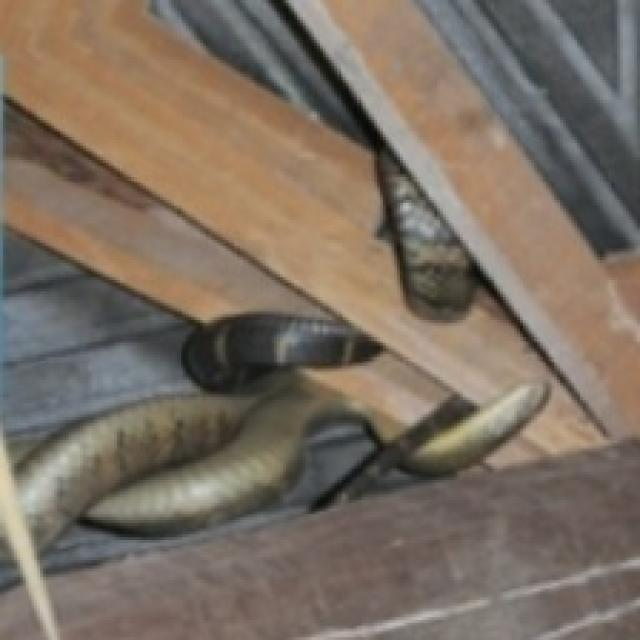king cobra: (86, 374, 397, 531), (377, 149, 474, 317), (397, 383, 546, 471), (29, 426, 106, 543), (140, 414, 186, 466), (69, 466, 86, 514), (126, 403, 166, 414), (97, 417, 114, 423)
